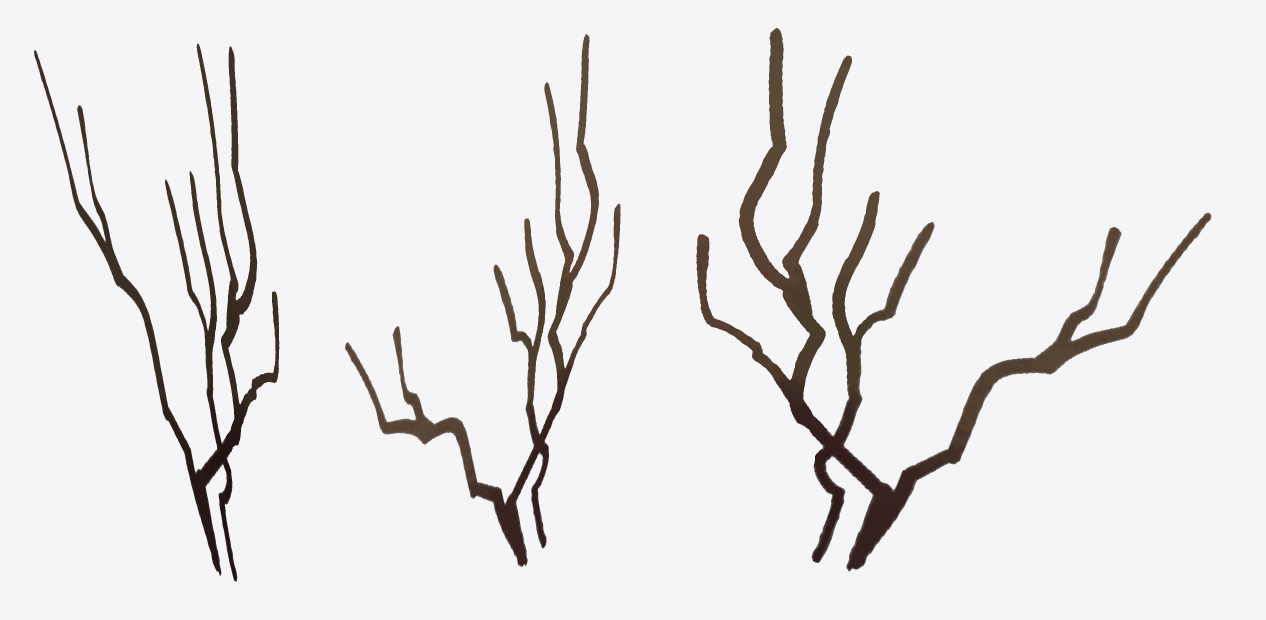
Rendered from branch4_001.fbx.
The picture shows the model from 3 angles, left to right: view 1: azimuth 30°, elevation 25°; view 2: azimuth 150°, elevation 25°; view 3: azimuth 270°, elevation 25°; orthographic projection. The views are drawn at different scales.
Parts seen in each view (by area): view 1: branch4.001; view 2: branch4.001; view 3: branch4.001.
Part boxes in pixels (bbox=[...]): branch4.001: bbox=[34, 43, 279, 581]; branch4.001: bbox=[345, 34, 620, 566]; branch4.001: bbox=[696, 28, 1211, 571].
Bounding box in the file's own units: 42.21 × 646 × 595.
